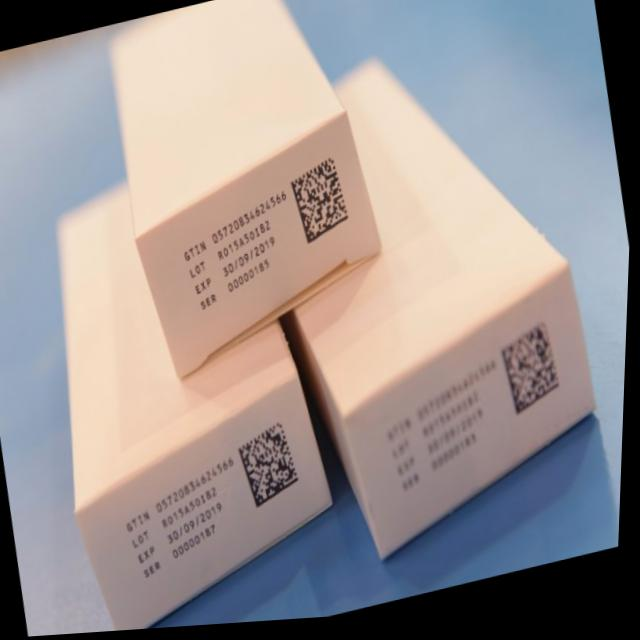datamatrix: (494, 318, 582, 433), (283, 151, 365, 268), (231, 411, 314, 525)
